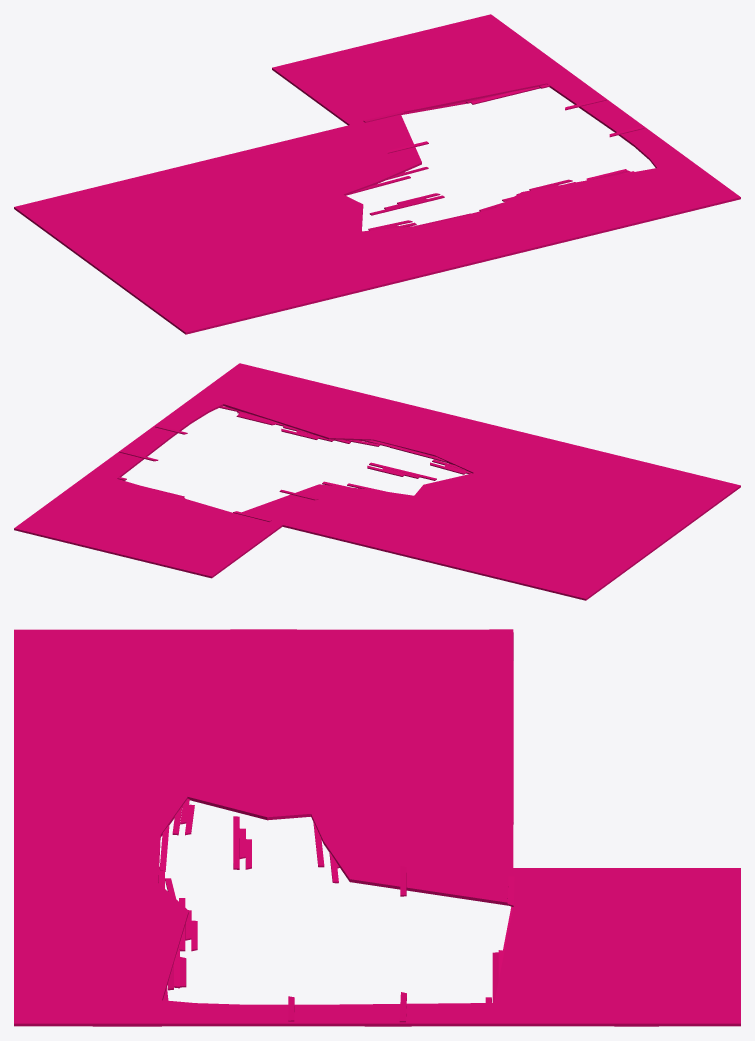
The model's file is BH05B_Roof_Wood_01.fbx.
The picture shows the model from 3 angles, top to bottom: view 1: azimuth 30°, elevation 25°; view 2: azimuth 150°, elevation 25°; view 3: azimuth 270°, elevation 25°; orthographic projection. The views are drawn at different scales.
Visible parts, largest first — view 1: BH05B_Roof_Wood_01; view 2: BH05B_Roof_Wood_01; view 3: BH05B_Roof_Wood_01.
Part boxes in pixels (bbox=[...]): BH05B_Roof_Wood_01: bbox=[14, 14, 740, 334]; BH05B_Roof_Wood_01: bbox=[14, 363, 740, 600]; BH05B_Roof_Wood_01: bbox=[14, 629, 740, 1026].
Bounding box in the file's own units: 2280 × 20.26 × 1778.
